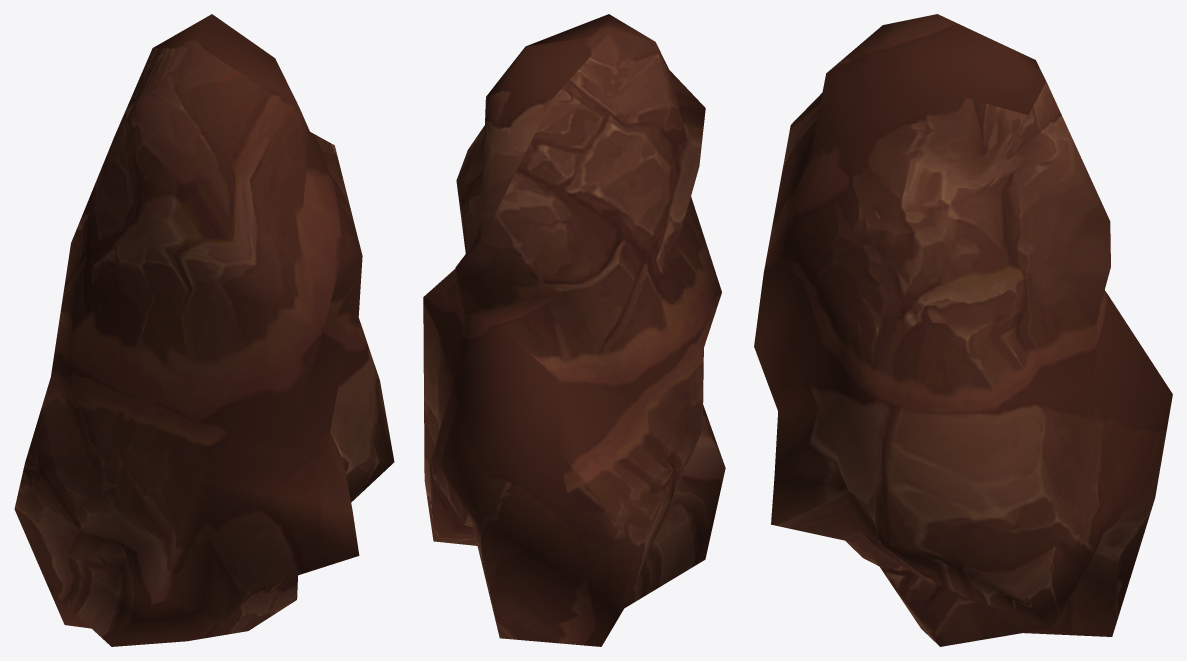
File: oModRock01.FBX
3 views of the same model, side by side, from view 1: azimuth 30°, elevation 25°; view 2: azimuth 150°, elevation 25°; view 3: azimuth 270°, elevation 25° (orthographic). The views are drawn at different scales.
Parts seen in each view (by area): view 1: oModRock01; view 2: oModRock01; view 3: oModRock01.
Part boxes in pixels (<box>): oModRock01: <box>14,14,394,646</box>; oModRock01: <box>423,14,725,646</box>; oModRock01: <box>754,14,1172,646</box>.
Size of the model in its own units: 55.55 by 109 by 67.79.
1 material, 1 textured.
